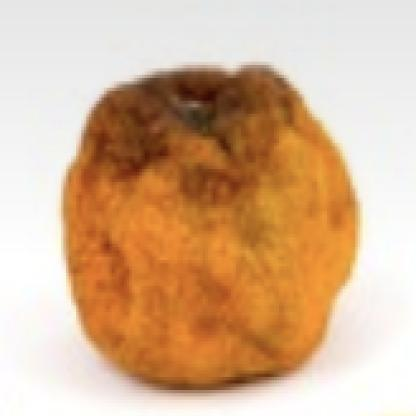rotten: (64, 64, 358, 393)
